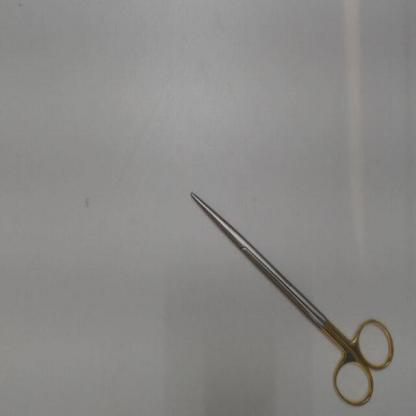7 Metzenbaum Scissors: (189, 190, 397, 408)
